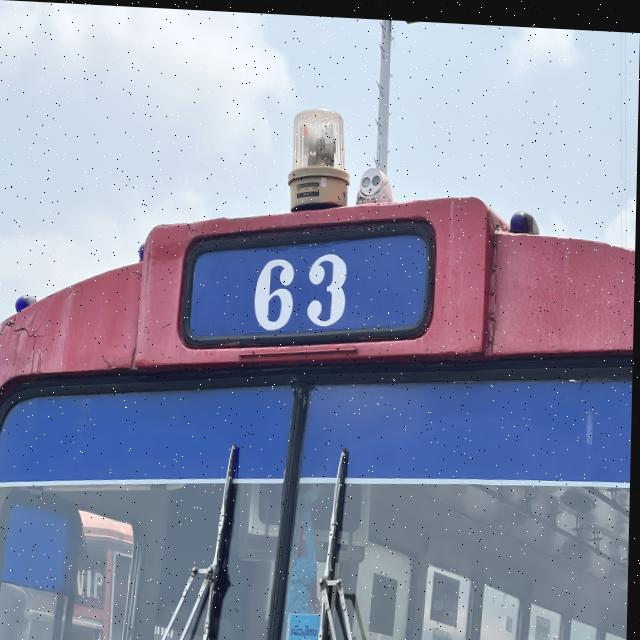BMTA-bus: (0, 93, 638, 640)
Bus-Line-Number: (182, 210, 437, 357)
